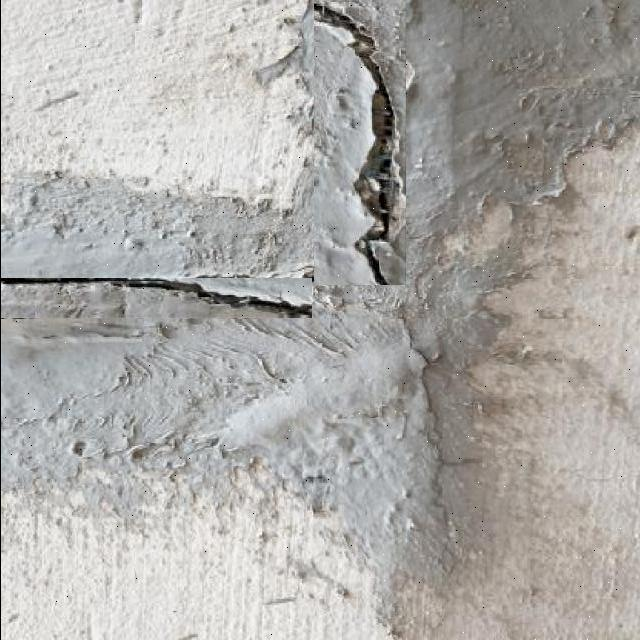crack: (2, 173, 513, 427), (283, 4, 477, 344)
dampness: (6, 43, 583, 533)
